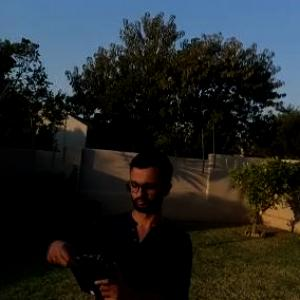follow: (39, 144, 196, 299)
